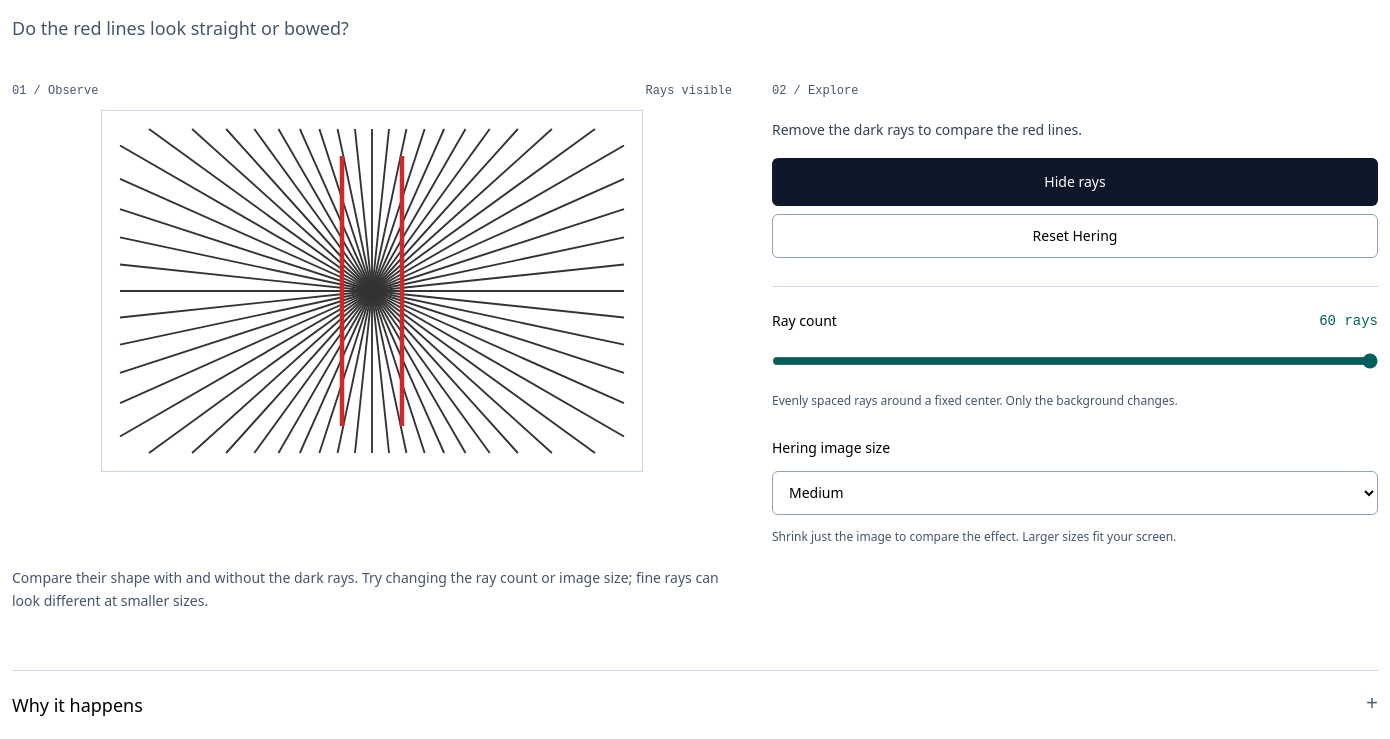
Test: Hering experience › keeps size/disclosure independent and restores all defaults on Reset with focus retained
The width and height of the screenshot is (1390, 739).
(page scrolled)
Click the button "Why it happens +": (77, 705) [12,671,1378,738]
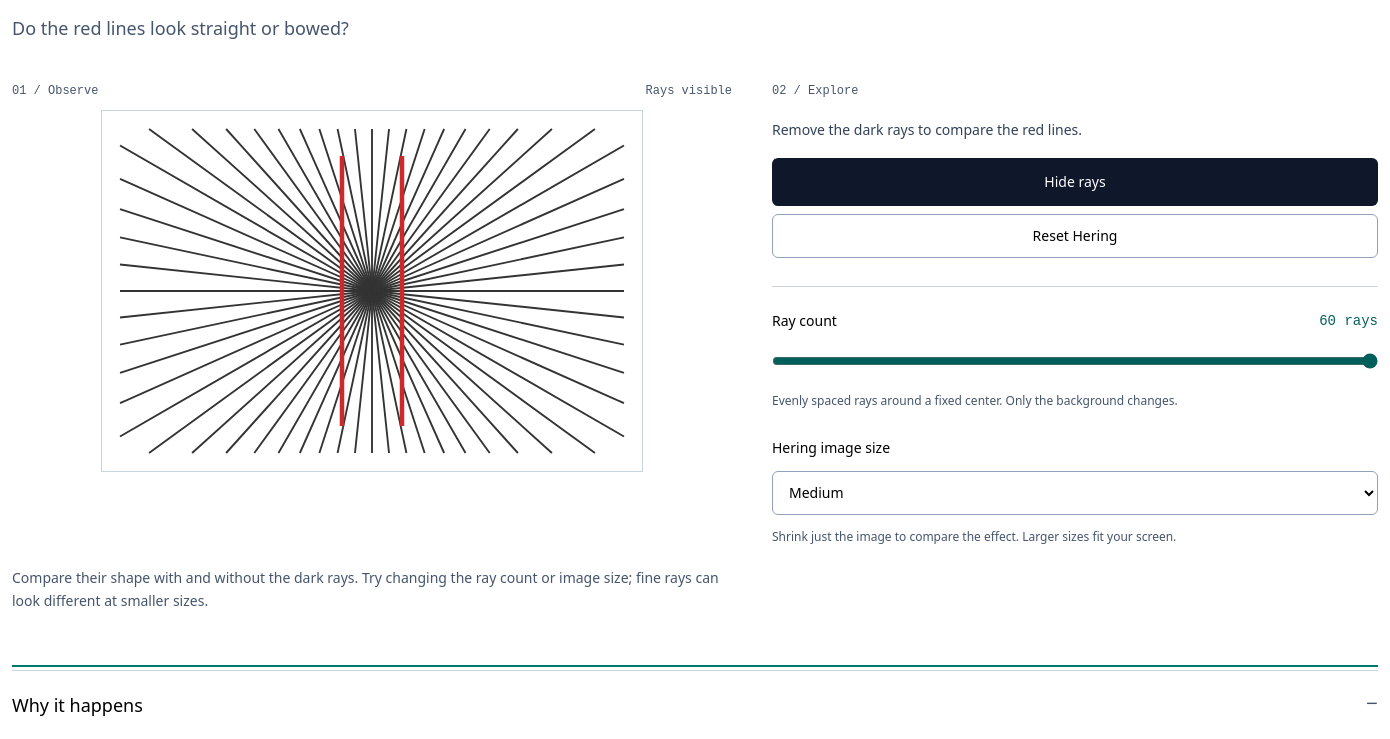
Select "Compact" in the dropdown: (1075, 492) [772,470,1378,514]
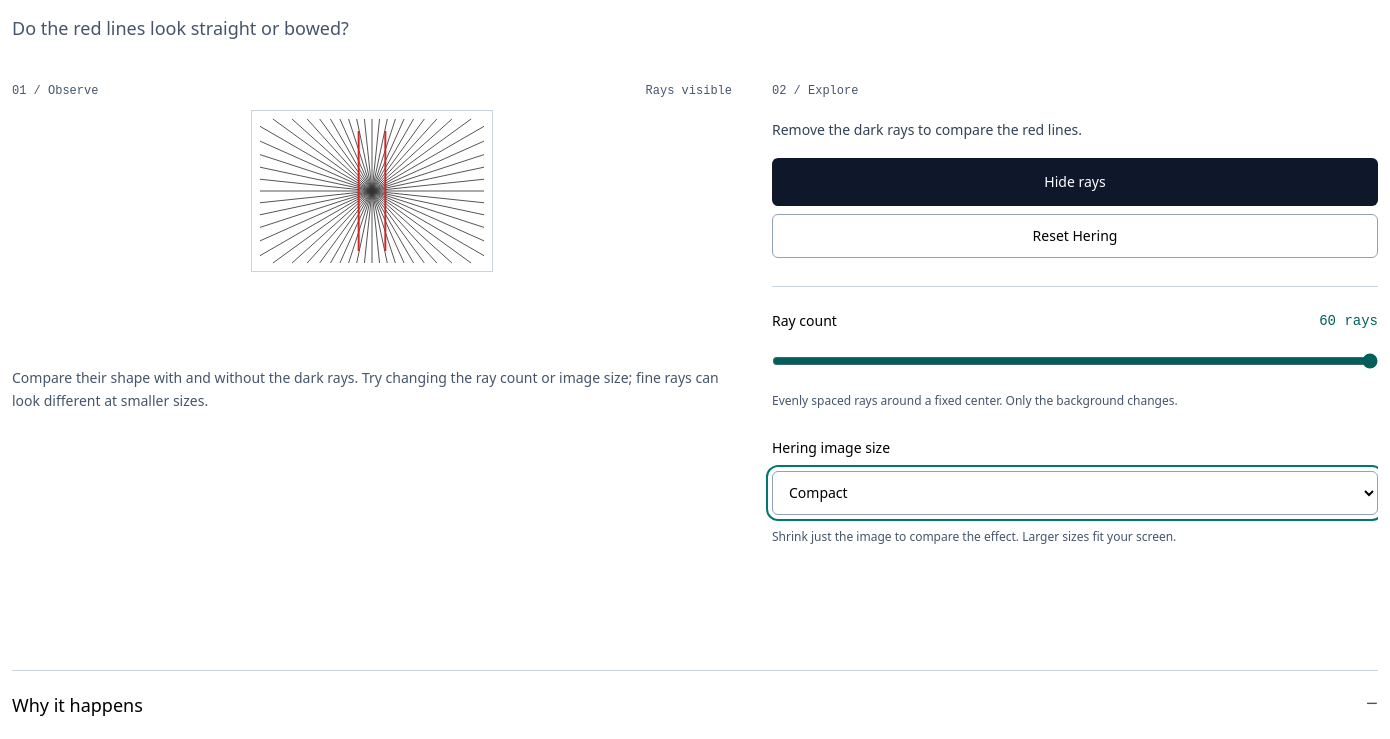
Select "Large" in the dropdown: (1075, 492) [772,470,1378,514]
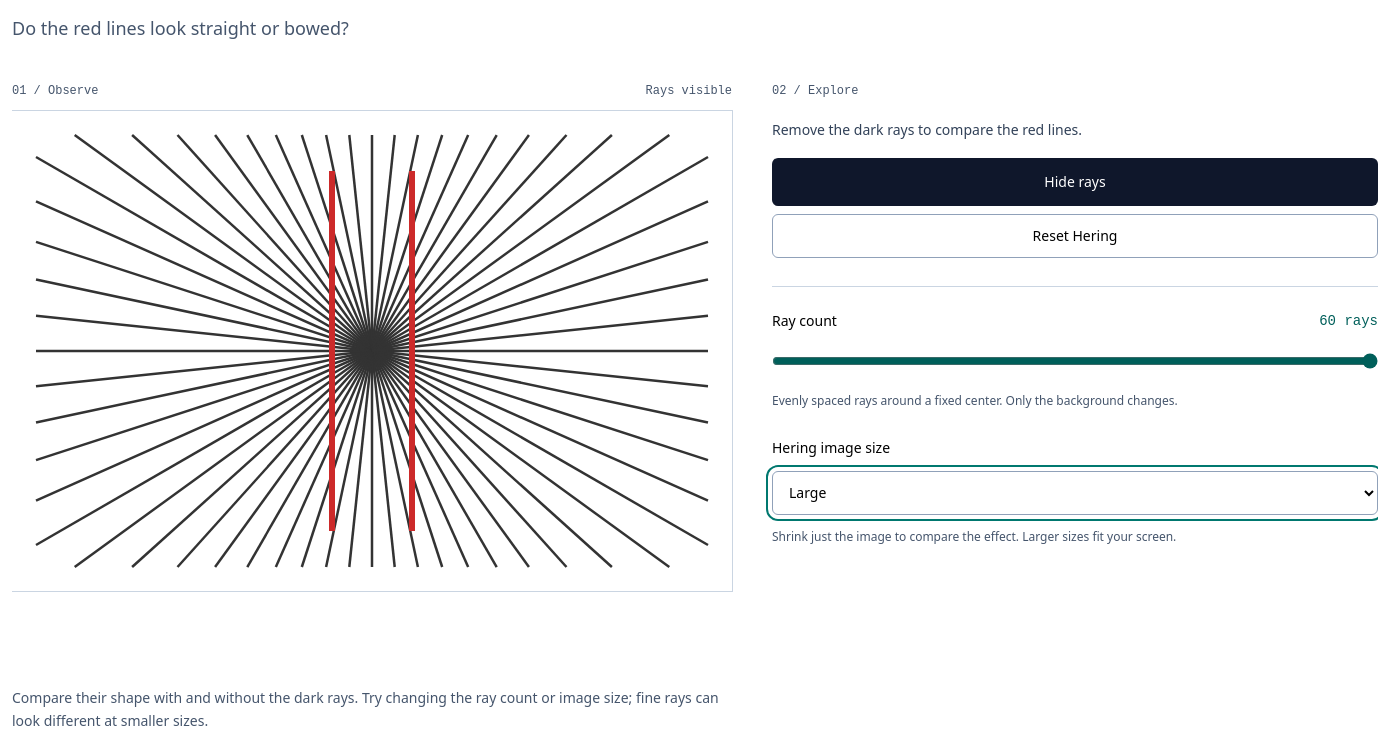
Set the slider labelled "Ray count" to "24": (780, 361) [772,339,1378,383]
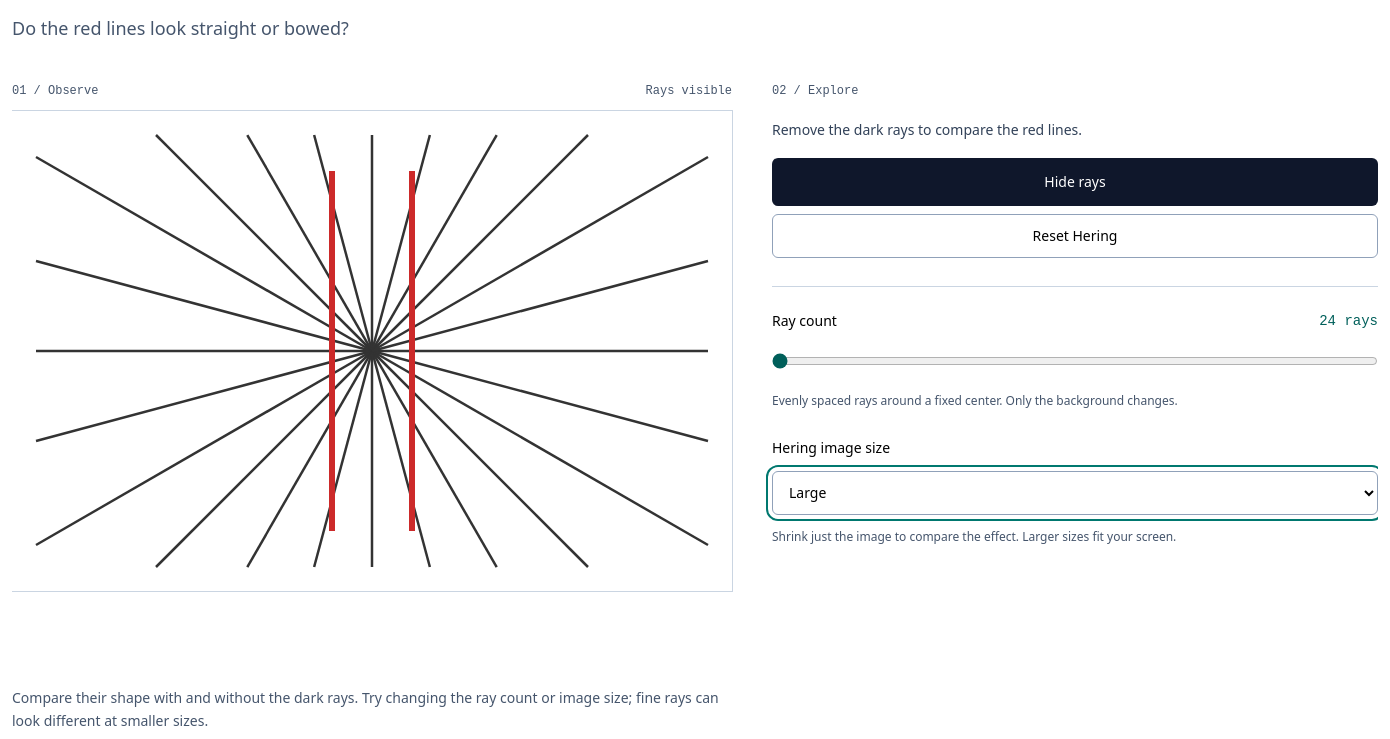
Click the button "Hide rays": (1075, 182) [772,158,1378,206]
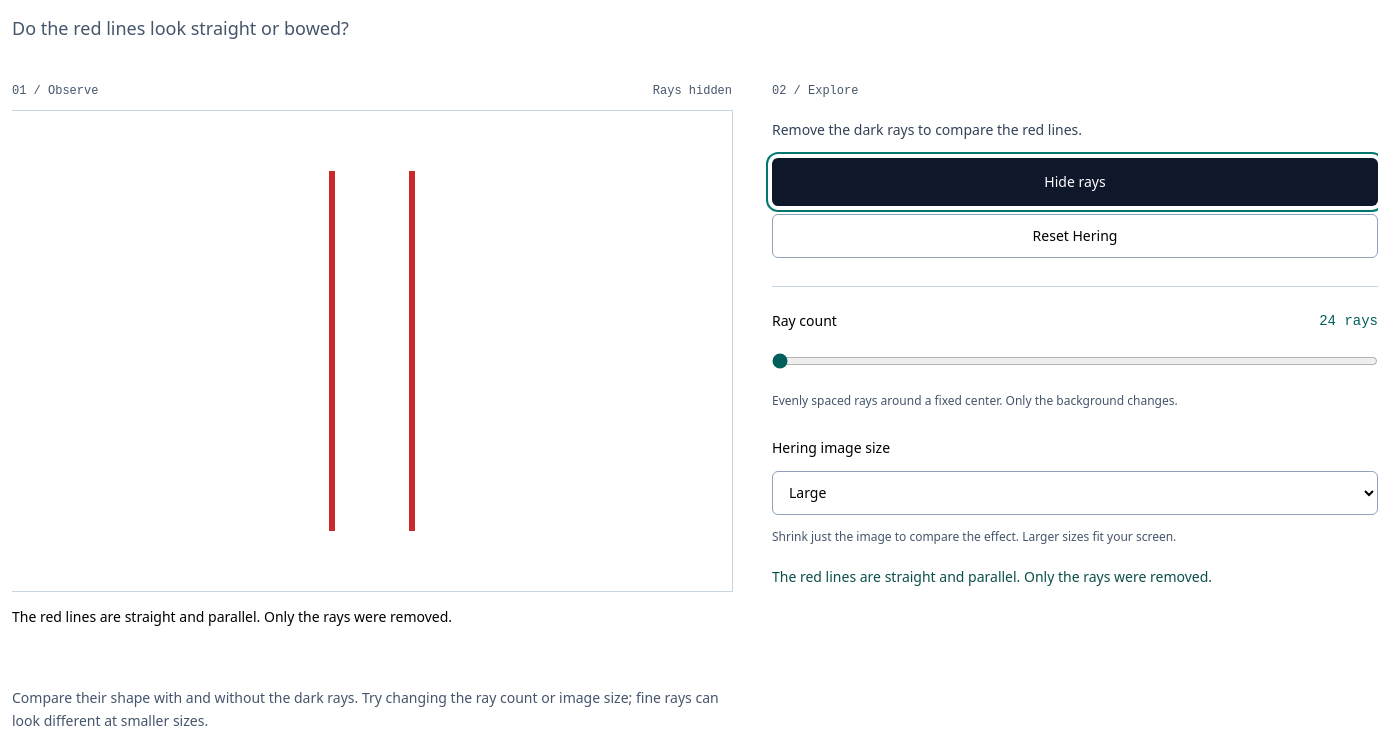
Click the button "Reset Hering": (1075, 236) [772,214,1378,258]
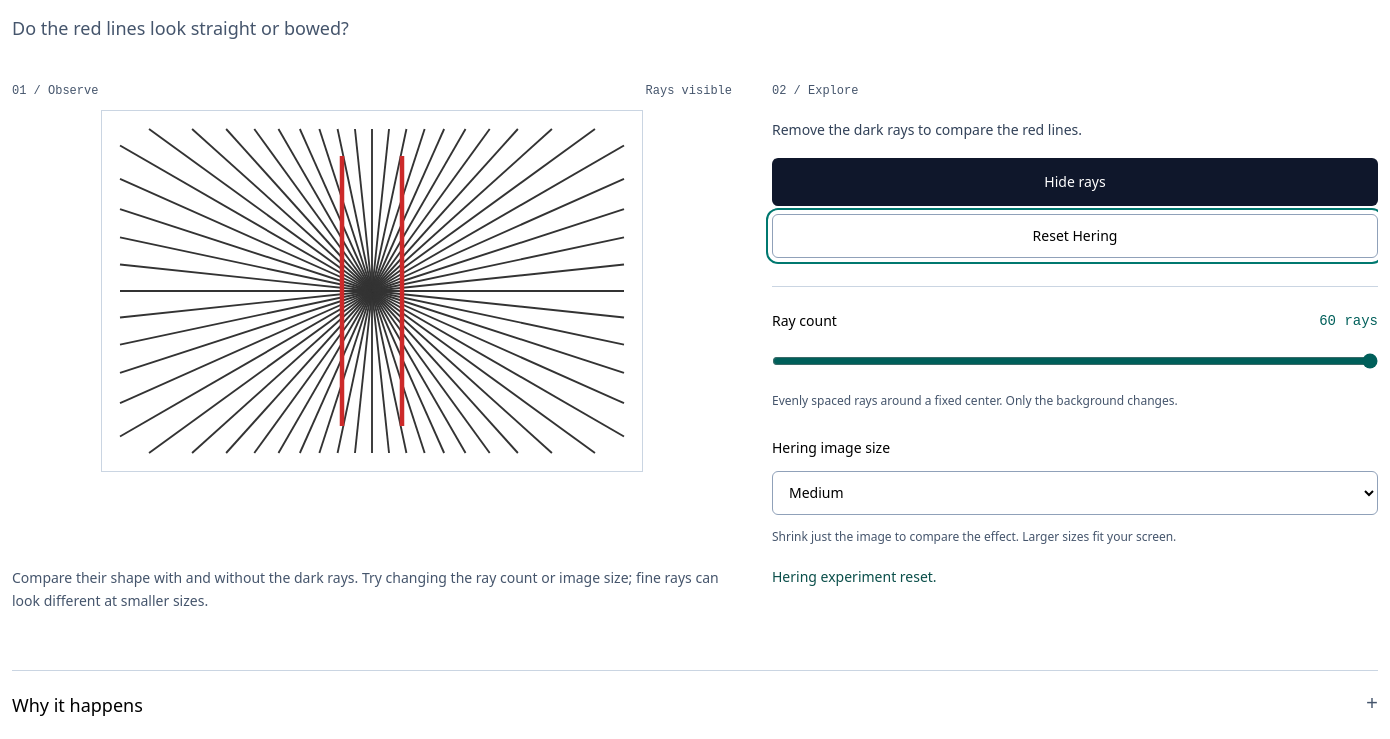
Expected: the slider labelled "Ray count" holds "60", [772,339,1378,383]
Expected: the button "Why it happens +" is collapsed, [12,671,1378,738]
Expected: the text "Hering experiment reset." is shown, [772,567,937,586]
